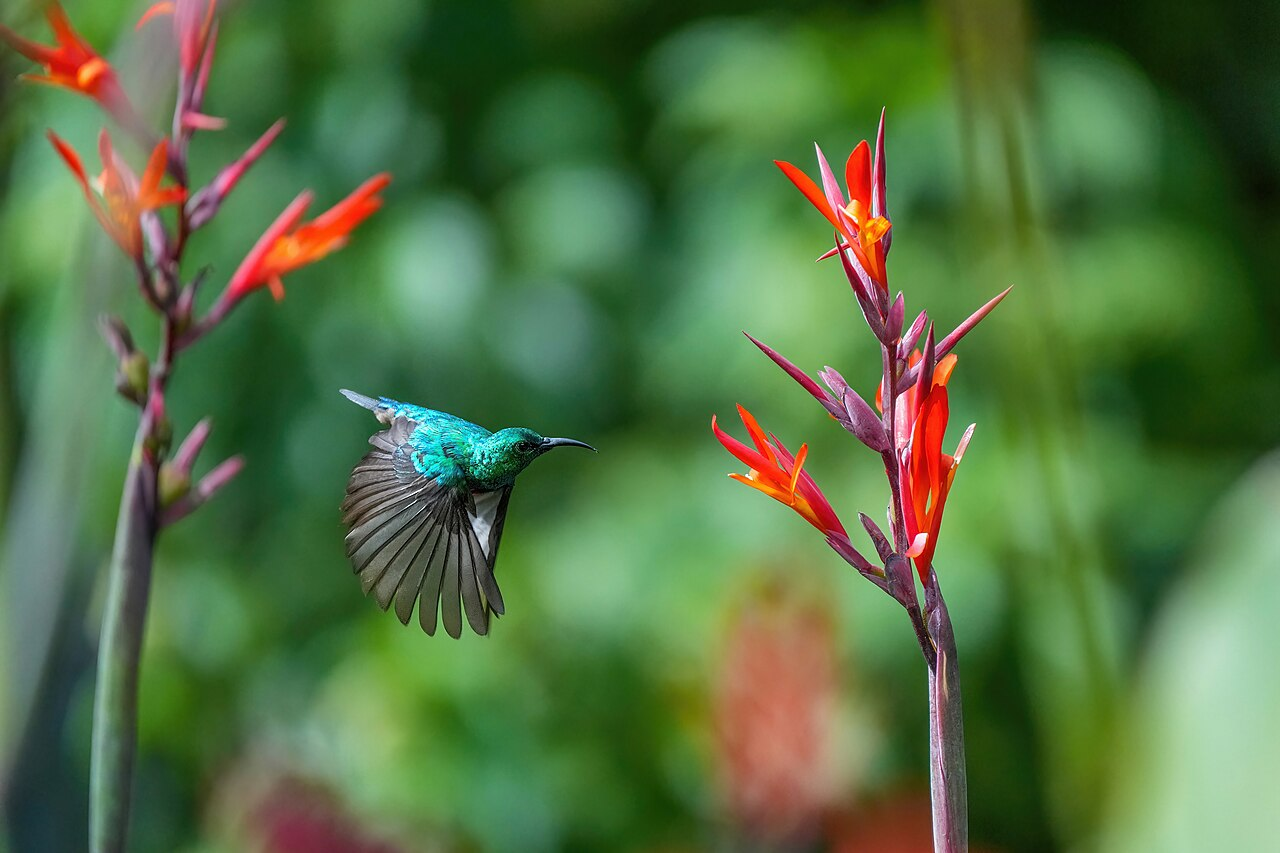bird: (337, 386, 599, 642)
